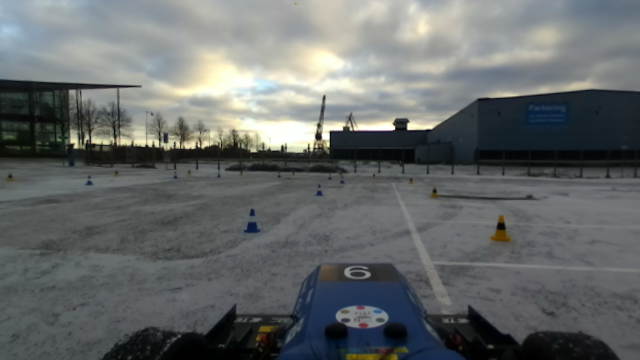blue: (242, 207, 262, 235)
yellow: (489, 213, 513, 244)
